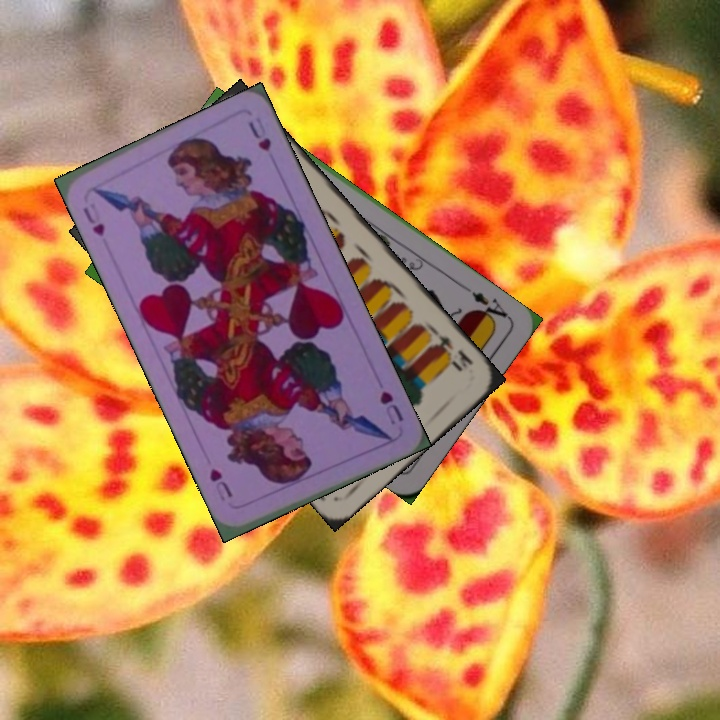E10: (428, 327, 476, 375)
EA: (460, 282, 512, 327)
HU: (375, 387, 406, 427), (78, 203, 108, 239)
